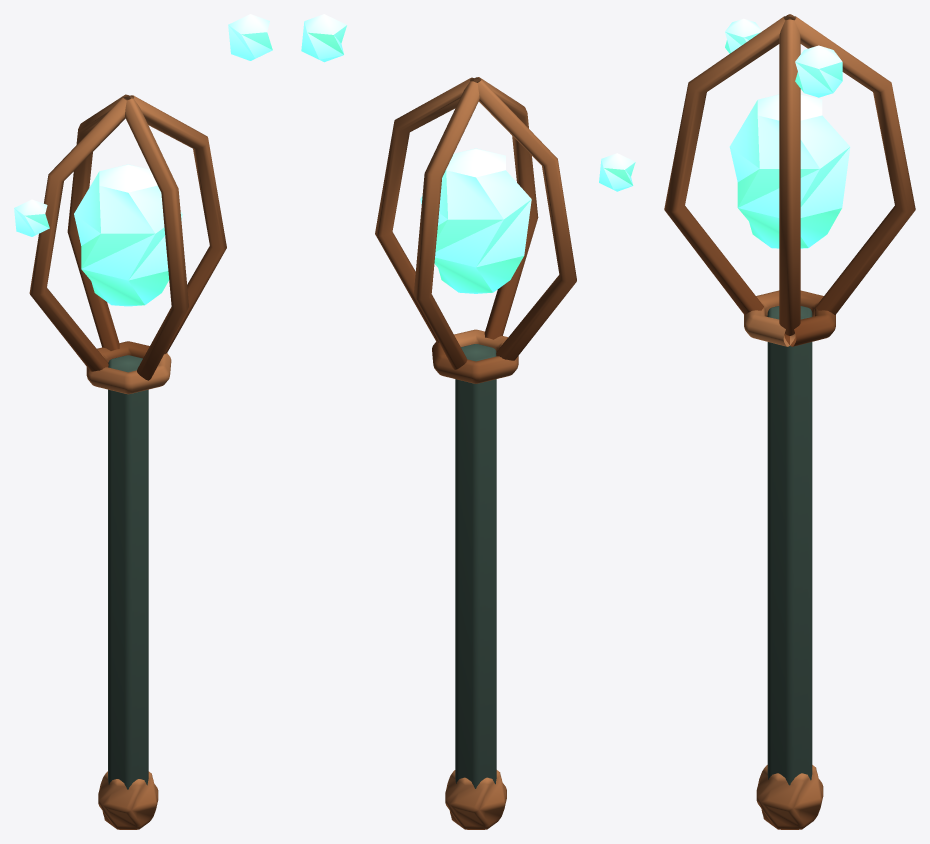
The model's file is lg_wispfire_scepter.glb.
3 views of the same model, side by side, from view 1: azimuth 30°, elevation 25°; view 2: azimuth 150°, elevation 25°; view 3: azimuth 270°, elevation 25° (orthographic). The views are drawn at different scales.
Parts seen in each view (by area): view 1: lg_wispfire_scepter, lg_wispfire_scepter_glow; view 2: lg_wispfire_scepter, lg_wispfire_scepter_glow; view 3: lg_wispfire_scepter, lg_wispfire_scepter_glow.
Part boxes in pixels (bbox=[...]): lg_wispfire_scepter: bbox=[29, 94, 226, 829]; lg_wispfire_scepter_glow: bbox=[14, 14, 272, 306]; lg_wispfire_scepter: bbox=[375, 77, 576, 829]; lg_wispfire_scepter_glow: bbox=[301, 14, 635, 293]; lg_wispfire_scepter: bbox=[664, 14, 915, 829]; lg_wispfire_scepter_glow: bbox=[725, 18, 850, 248].
Size of the model in its own units: 0.6379 by 1.64 by 0.4361.
